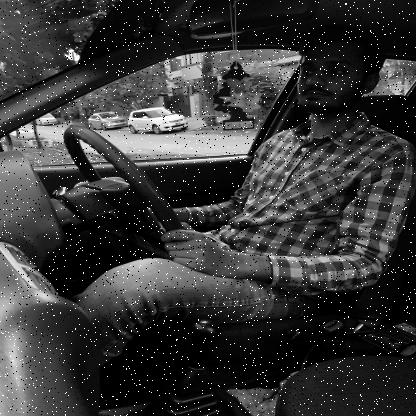no_seatbelt: (254, 31, 382, 237)
